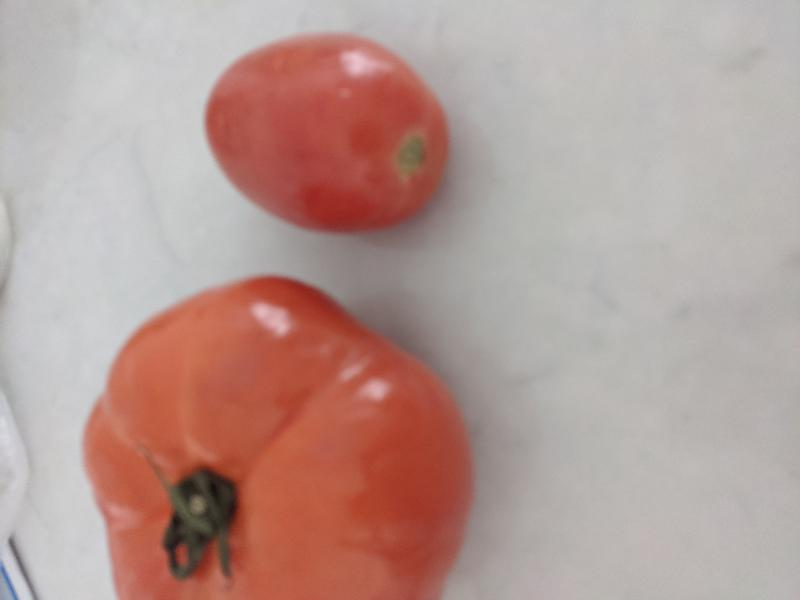tomato: (83, 276, 476, 600), (202, 30, 454, 236)
